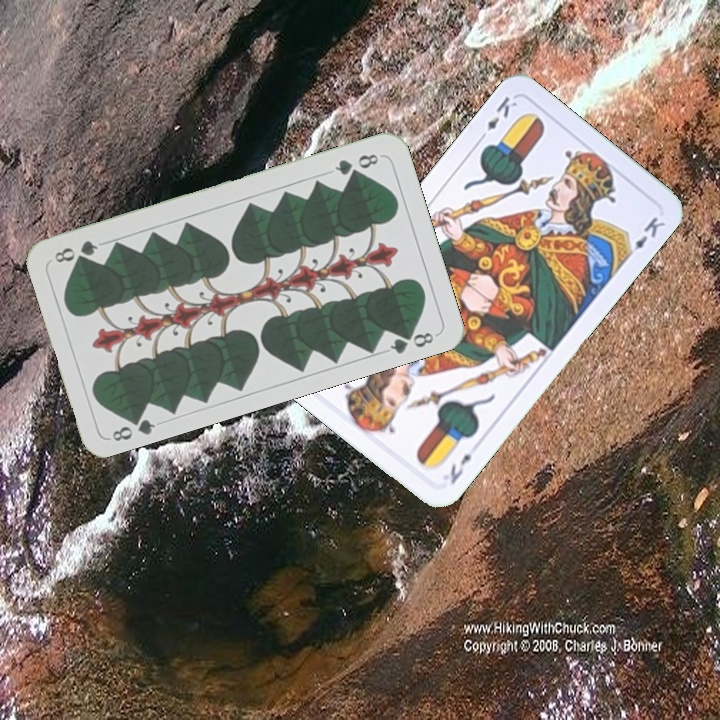EK: (474, 92, 520, 144), (446, 449, 475, 487)
G8: (108, 409, 158, 444), (330, 149, 384, 178)
